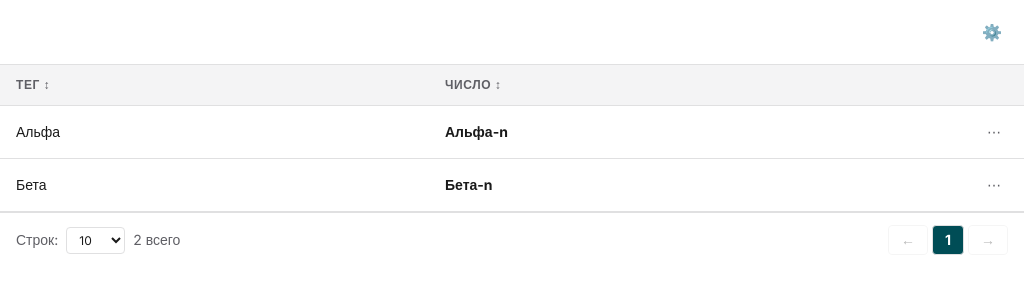
Test case: DataTable action dropdown › outside mousedown closes the menu
Click the button named "Действия" at (994, 132), box [980,118,1008,146]
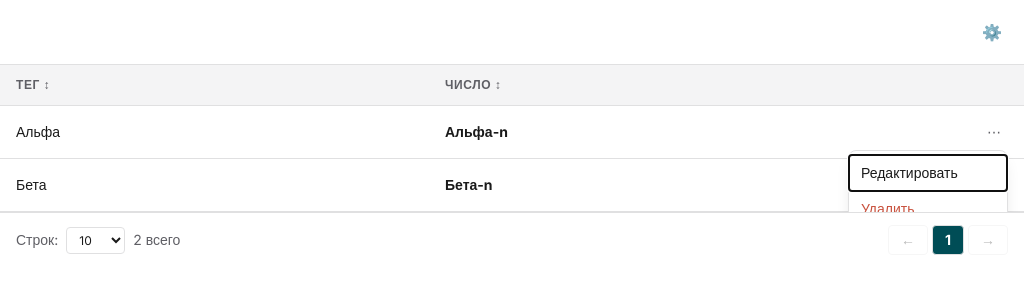
Result: the menu is shown at [848,150,1008,212]
Press the mouse on the element that starts with "Тег" at (512, 134), box [0,0,1023,267]
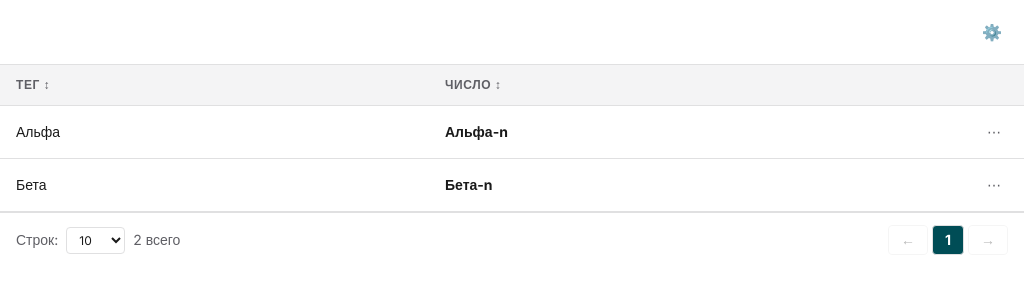
Result: the menu is gone
